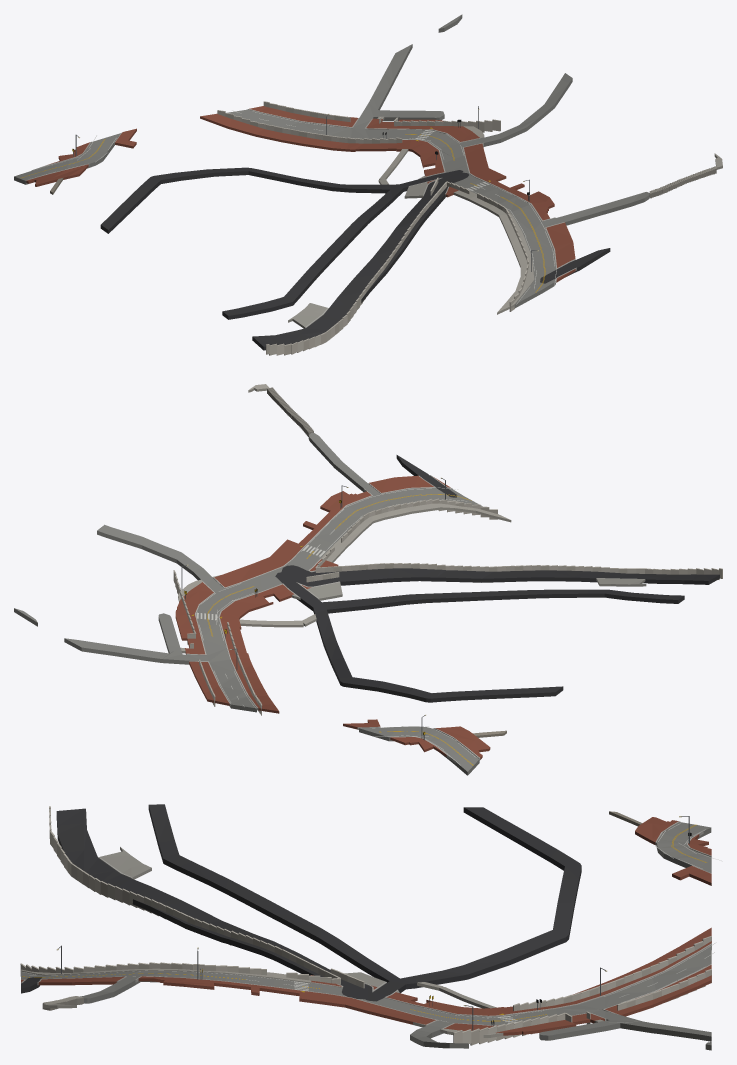
Rendered from 18-218862-118951.62aaf46d.glb.
The picture shows the model from 3 angles, top to bottom: view 1: azimuth 30°, elevation 25°; view 2: azimuth 150°, elevation 25°; view 3: azimuth 270°, elevation 25°; orthographic projection. The views are drawn at different scales.
Size of the model in its own units: 147 by 28.24 by 150.
